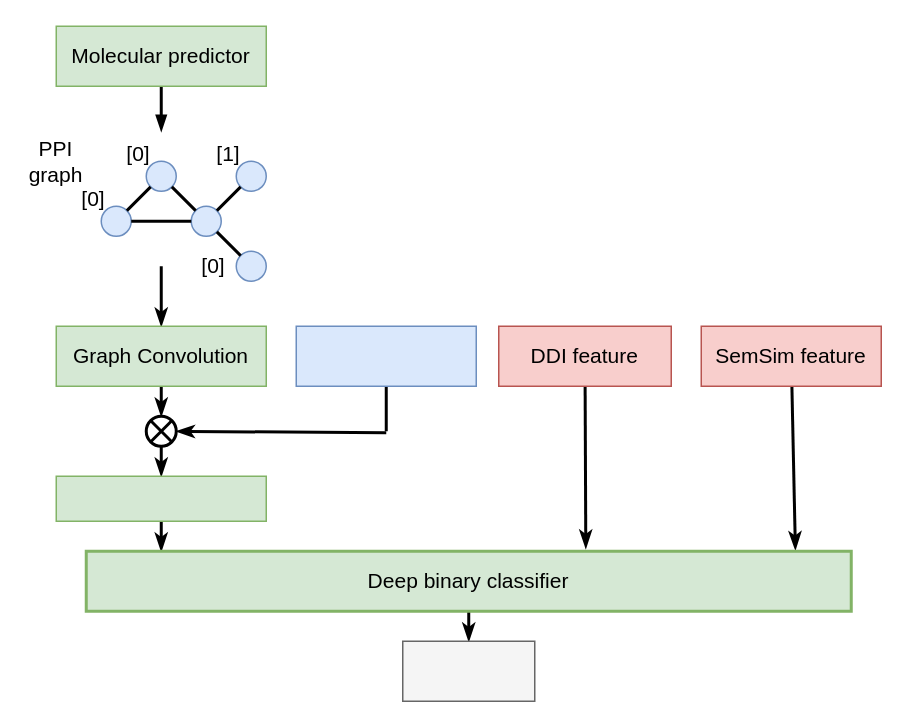
The diagram is 908 pixels wide and 728 high, and some of its shapes have lost their labels. The box of each missing label's shape, as (x1, y1, x2, y2) in pixels:
FC layers: (55, 475, 266, 521)
Prediction: (401, 640, 535, 701)
Protein mask: (295, 325, 476, 386)
